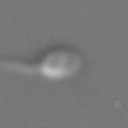abnormal: (1, 51, 39, 85)
